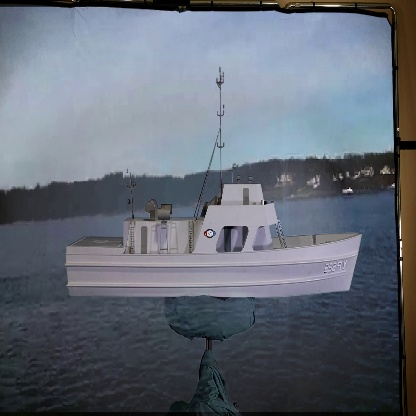YP689: (56, 53, 373, 301)
